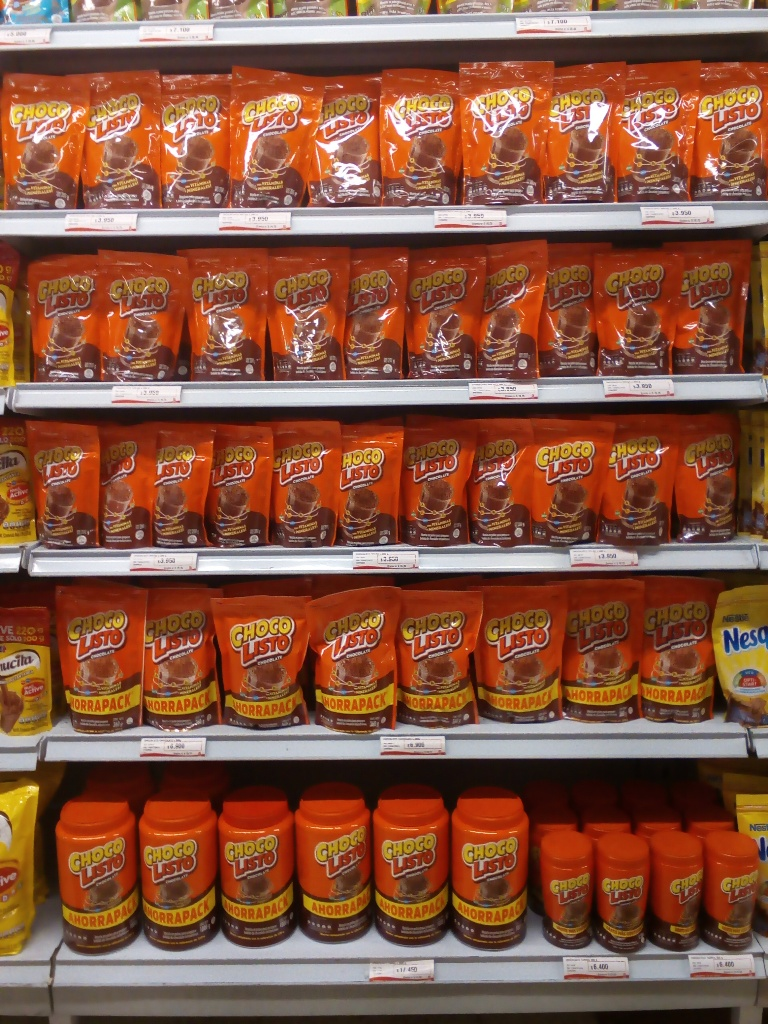COL0170103DYP20000: (27, 422, 103, 546)
COL0170103DYP36000: (48, 577, 146, 735)
COL0170103TRR00100: (54, 785, 141, 958)
